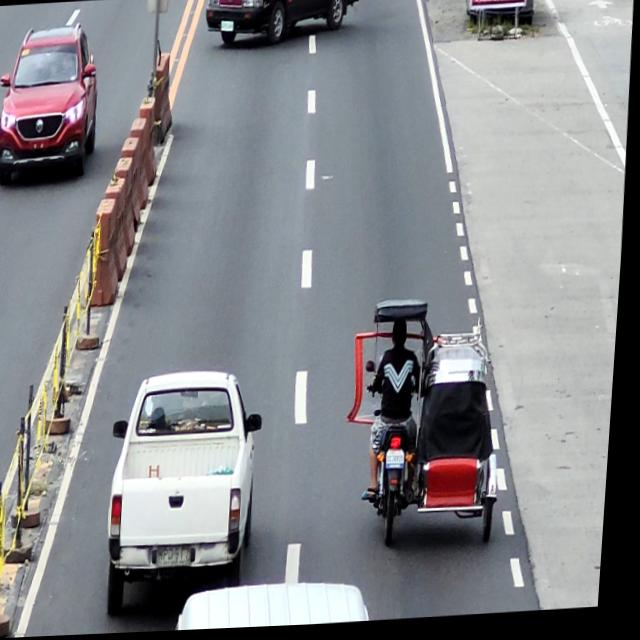Car: (106, 369, 274, 621), (0, 25, 104, 188), (204, 0, 362, 47)
License-Plate: (162, 544, 201, 571), (392, 452, 412, 468), (220, 21, 234, 35)
Tricycle: (360, 296, 516, 558)
